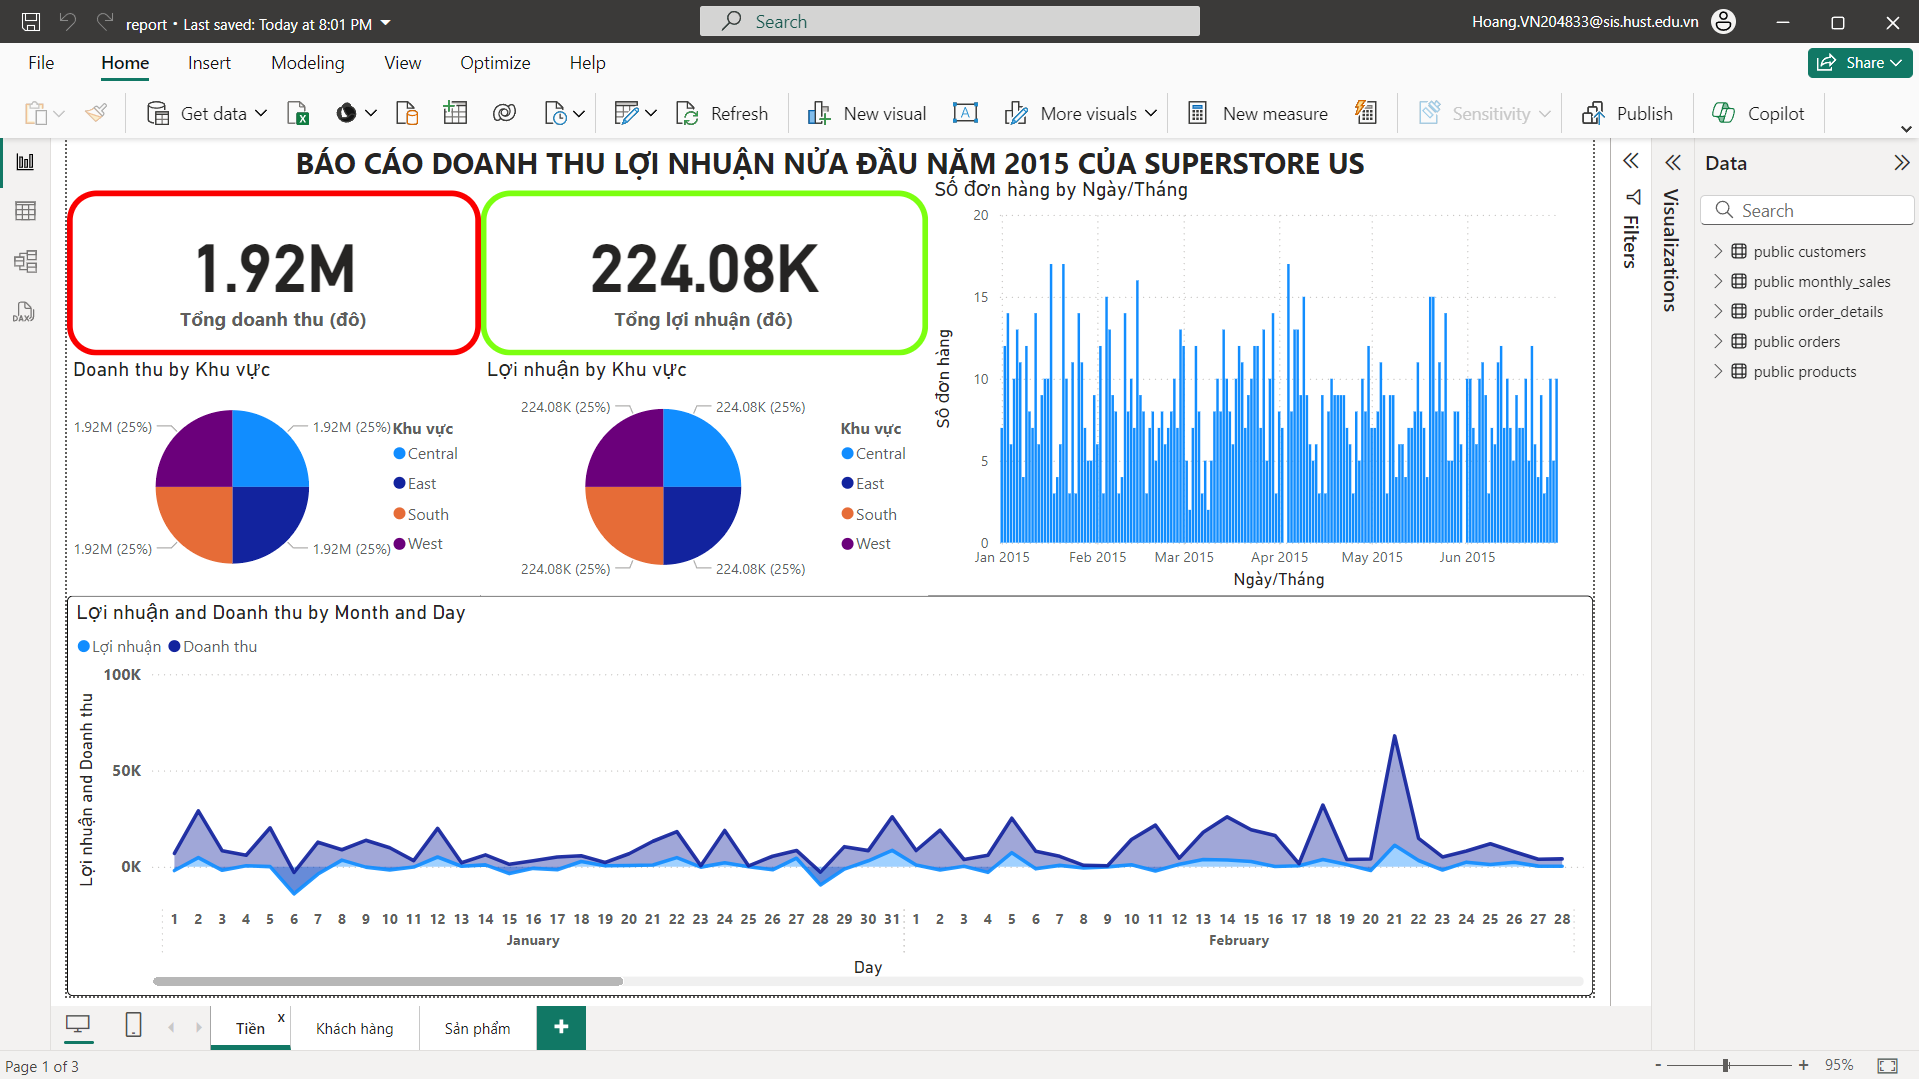

The dashboard page shown, as its layout file describes it:
{"tool":"powerbi","page":{"name":"Tiền","canvas":[1280,720],"ordinal":0},"visuals":[{"type":"card","fields":{"Values":["Sum(public orders.total_profit)"]},"box":[347.1,43.7,375,138.3],"z":0},{"type":"textbox","box":[180.9,0,917.1,42.7],"z":1000},{"type":"card","fields":{"Values":["Sum(public orders.total_sales)"]},"box":[0,43.7,347.1,138.3],"z":2000},{"type":"stackedAreaChart","fields":{"Category":["public orders.order_date.Variation.Date Hierarchy.Month","public orders.order_date.Variation.Date Hierarchy.Day"],"Y":["Sum(public orders.total_profit)","Sum(public orders.total_sales)"]},"box":[0,383.5,1280.2,336.1],"z":3000},{"type":"pieChart","fields":{"Y":["Sum(public orders.total_profit)"],"Category":["public customers.region"]},"box":[346.8,182.4,375.6,201.6],"z":4000},{"type":"pieChart","fields":{"Category":["public customers.region"],"Y":["Sum(public orders.total_sales)"]},"box":[0,182.4,346.8,201.6],"z":5000},{"type":"lineClusteredColumnComboChart","fields":{"Y":["CountNonNull(public orders.order_id)"],"Category":["public orders.order_date"]},"box":[722,31.6,558.2,351.9],"z":6000}]}

Visuals, with their boxes on the page's 1280x720 design canvas (x1, y1, x2, y2). These are canvas units, not pixel positions in the 1919x1079 screenshot, which may show the page scaled, cropped or inside an application window:
card - Sum(public orders.total_profit): l=347, t=44, r=722, b=182
textbox: l=181, t=0, r=1098, b=43
card - Sum(public orders.total_sales): l=0, t=44, r=347, b=182
stackedAreaChart - public orders.order_date.Variation.Date Hierarchy.Month x public orders.order_date.Variation.Date Hierarchy.Day: l=0, t=384, r=1280, b=720
pieChart - Sum(public orders.total_profit) x public customers.region: l=347, t=182, r=722, b=384
pieChart - public customers.region x Sum(public orders.total_sales): l=0, t=182, r=347, b=384
lineClusteredColumnComboChart - CountNonNull(public orders.order_id) x public orders.order_date: l=722, t=32, r=1280, b=384
